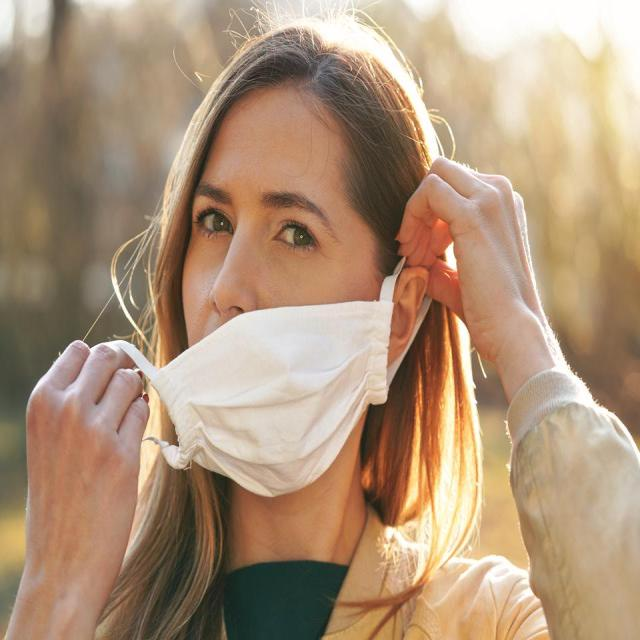mask: (123, 310, 428, 520)
